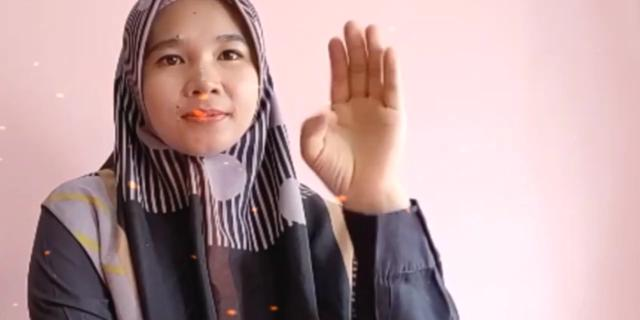B: (298, 19, 404, 188)
